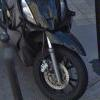Motorcycle: (11, 3, 93, 100)
